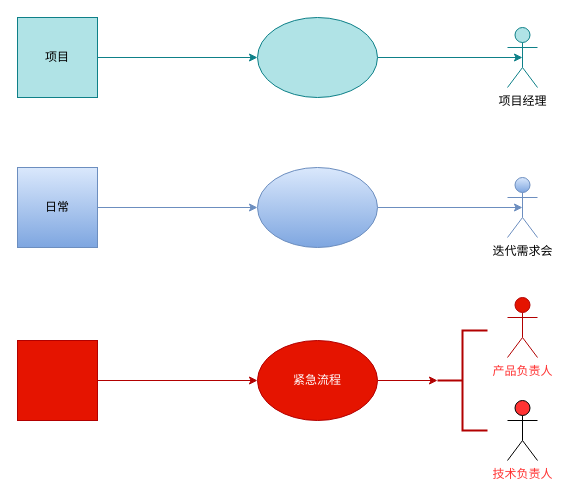
Image size: 570x499. Some labels were removed from this diagram. Here are the shapes that lost their labels. From the top down, the centre of each, then its label:
(317,57): 瀑布模型
(317,207): 双周迭代
(57,380): 紧急需求 线上问题
